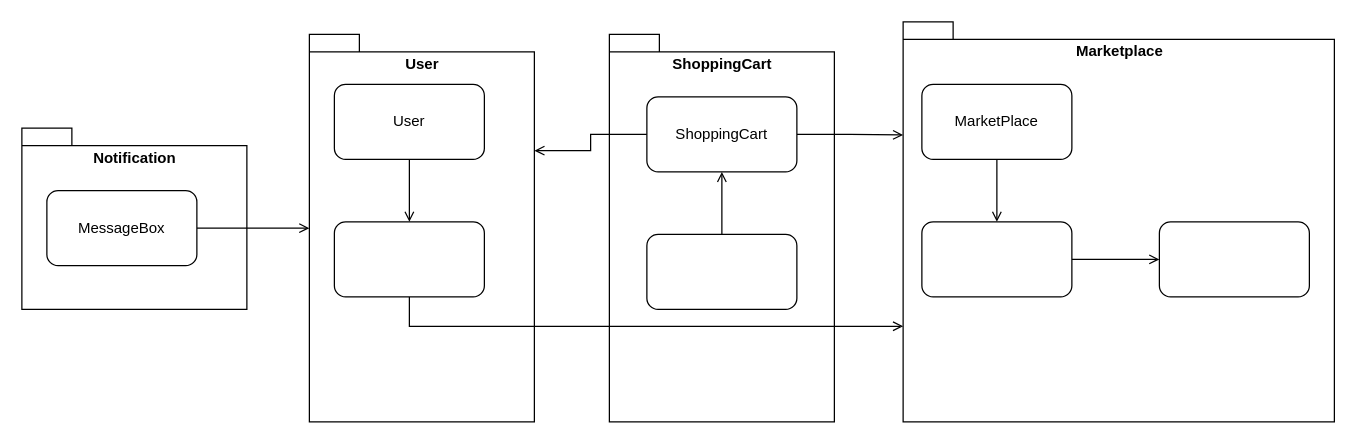
The diagram is 1356 pixels wide and 444 high, and some of its shapes have lost their labels. The centre of each missing label's shape, as x and y in pixels:
Order: (721,271)
Product: (1233,259)
Role: (408,259)
Shop: (996,259)
